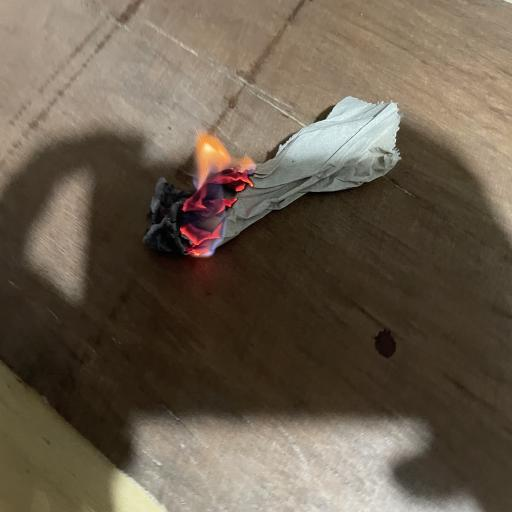fire: (160, 127, 257, 268)
